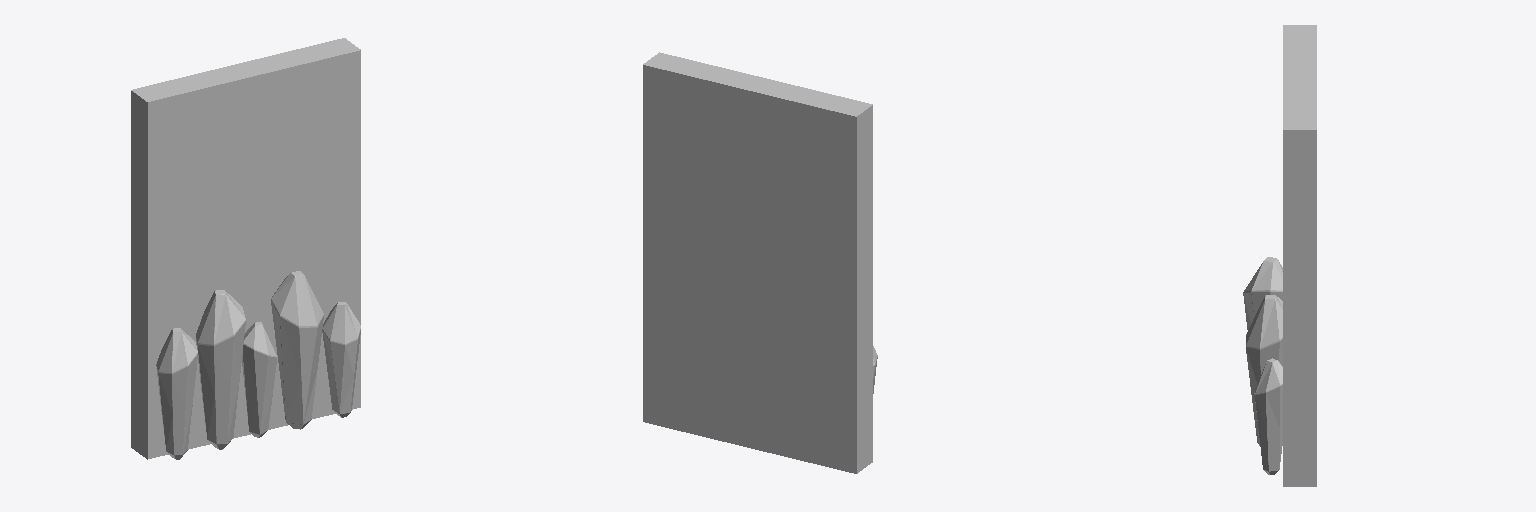
Rendered from level1DoorWithoutGems.obj.
3 renders of one model, left to right at view 1: azimuth 30°, elevation 25°; view 2: azimuth 150°, elevation 25°; view 3: azimuth 270°, elevation 25°, orthographic.
Parts seen in each view (by area): view 1: mainDoorBase1, Mesh3, Mesh1, Mesh, Mesh4, Mesh2; view 2: mainDoorBase1; view 3: mainDoorBase1, Mesh4, Mesh3, Mesh1.
Boxes of the visible parts, x1,y1,x2,y2 form: mainDoorBase1: [131, 38, 360, 459]; Mesh3: [271, 271, 323, 429]; Mesh1: [196, 290, 245, 449]; Mesh: [156, 328, 197, 459]; Mesh4: [322, 302, 360, 417]; Mesh2: [242, 322, 276, 437]; mainDoorBase1: [643, 52, 872, 473]; mainDoorBase1: [1283, 25, 1316, 486]; Mesh4: [1254, 358, 1282, 474]; Mesh3: [1246, 295, 1282, 445]; Mesh1: [1243, 257, 1282, 329].
Size of the model in its own units: 2.73 by 4.36 by 0.8137.